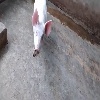heo: (29, 5, 54, 57)
